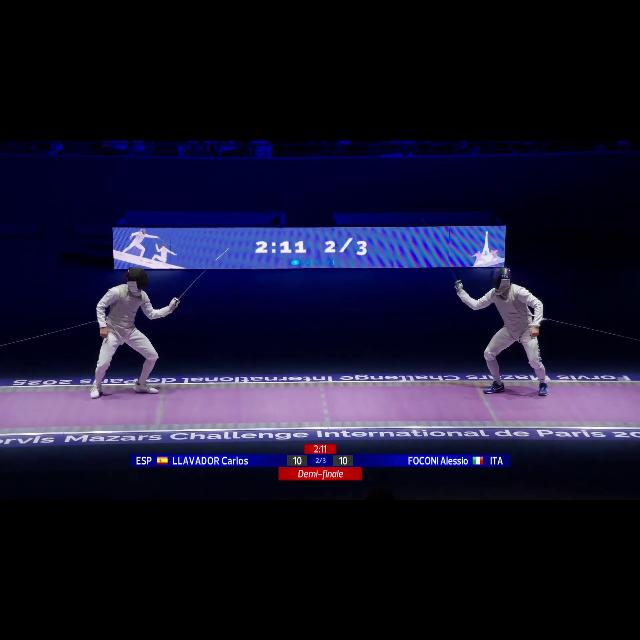blade: (173, 246, 230, 308)
